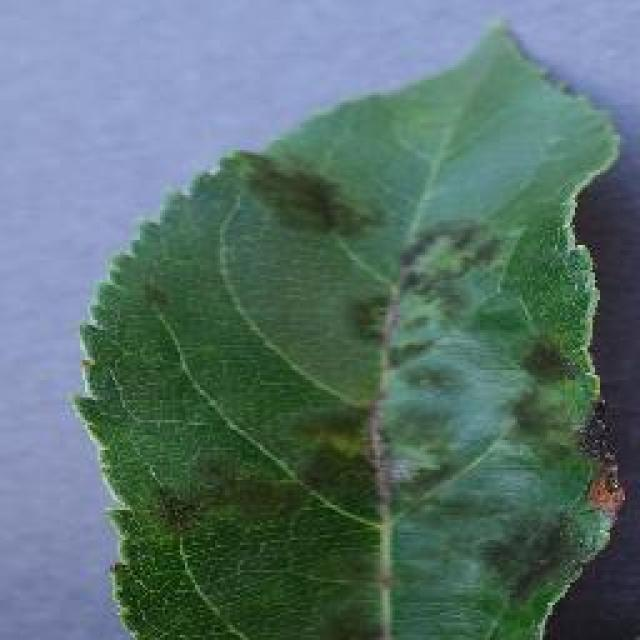apple scab disease: (70, 18, 630, 638)
